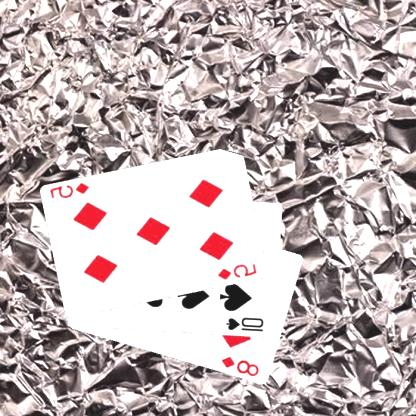10S: (225, 315, 267, 333)
5D: (217, 261, 260, 282), (49, 180, 93, 200)
8D: (221, 354, 262, 378)
